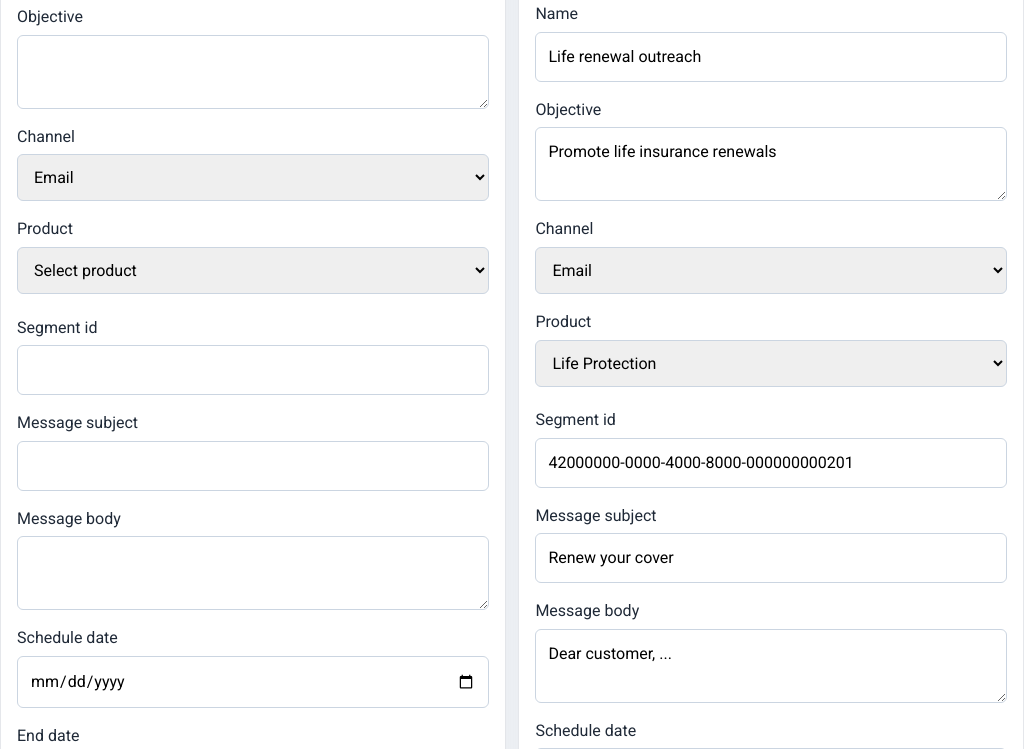
CampaignsPage form validation messages (item 242) › shows campaign form validation messages and blocks create post
This screenshot has width=1024, height=749.
(page scrolled)
Type "bad-segment" into the field named "Campaign segment id" at (253, 370), box left=17, top=345, right=489, bottom=395
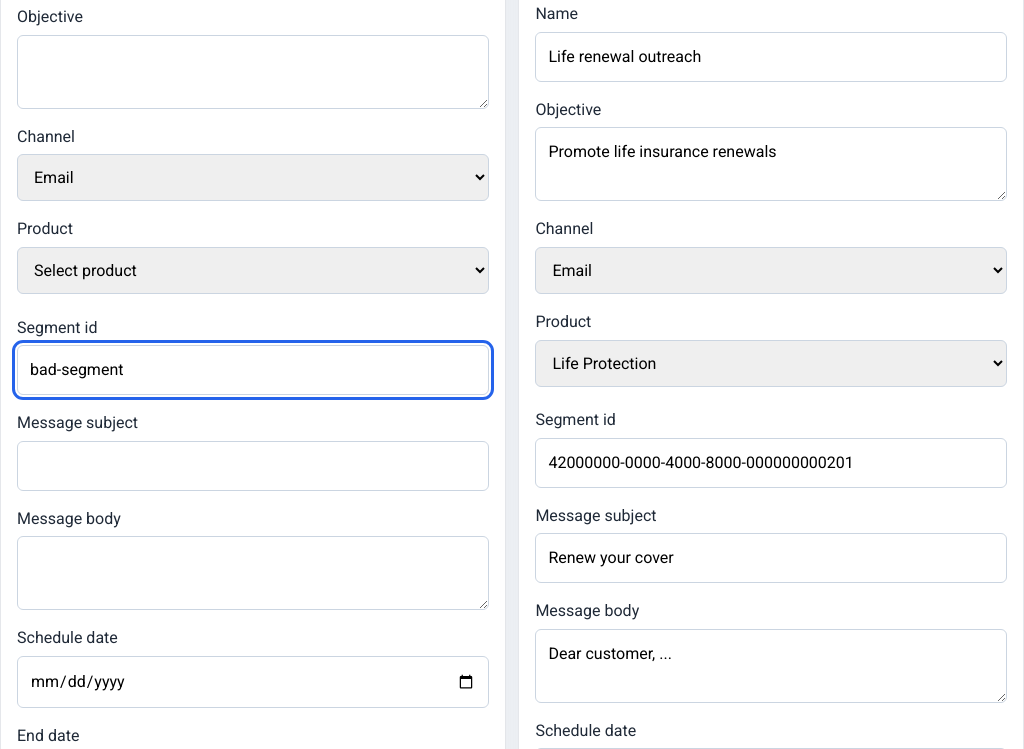
Type "2026-10-15" into the date field named "Campaign schedule date" at (253, 682), box left=17, top=656, right=489, bottom=708
(page scrolled)
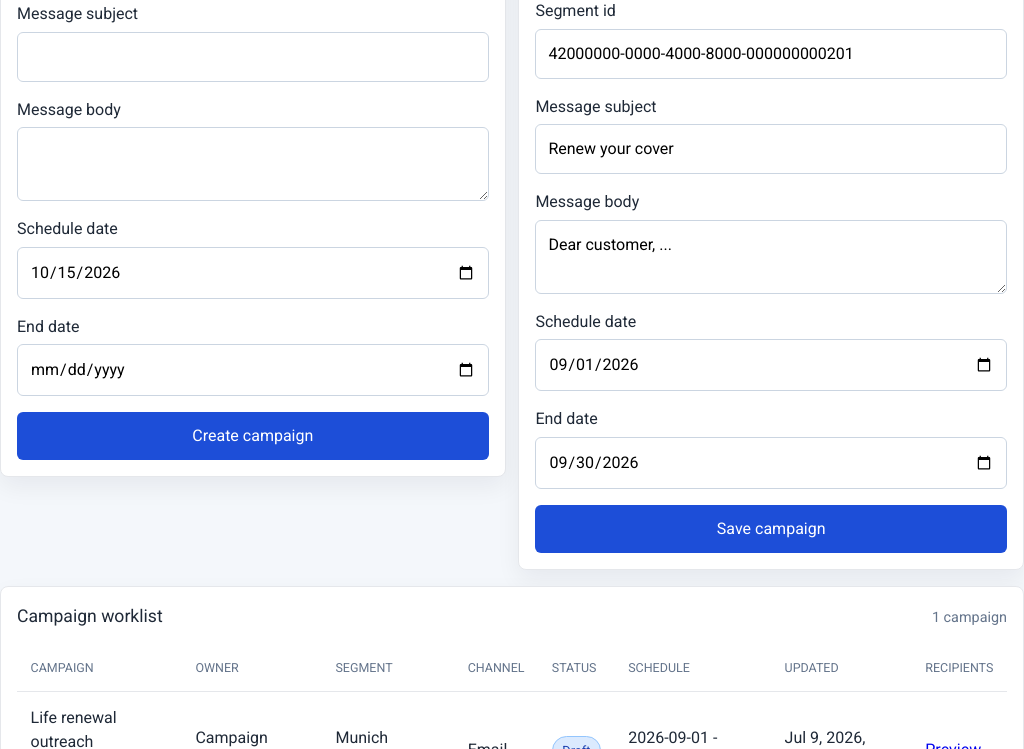
Type "2026-10-01" into the date field named "Campaign end date" at (253, 370), box left=17, top=344, right=489, bottom=396
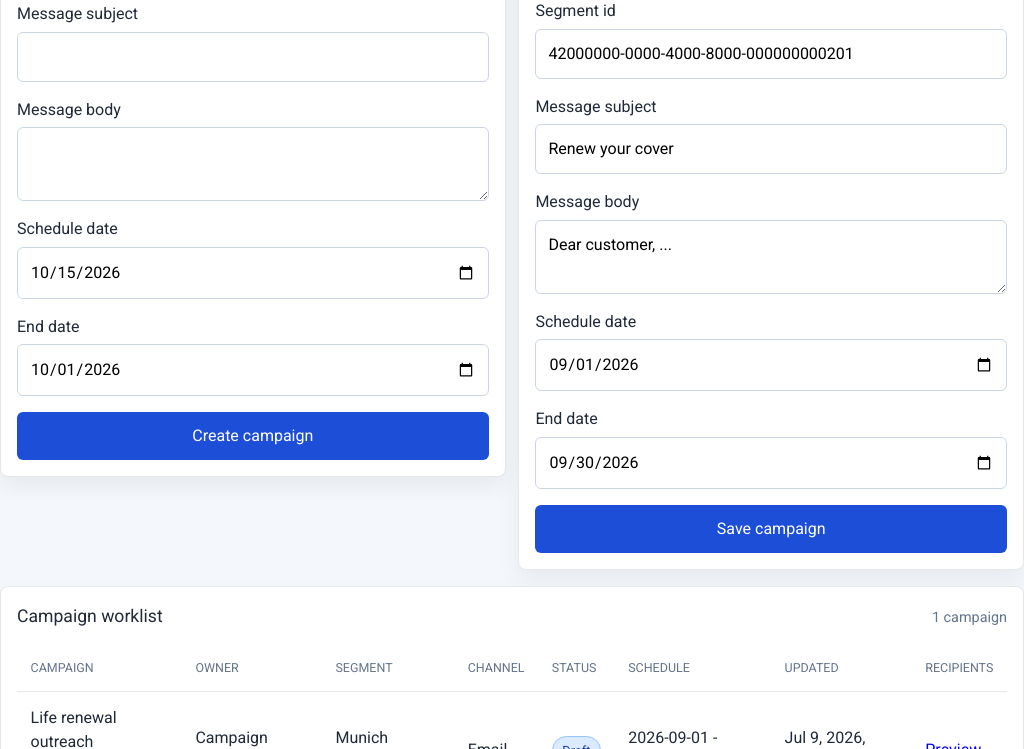
Click the button "Create campaign" at (253, 436), box left=17, top=412, right=489, bottom=460
(page scrolled)
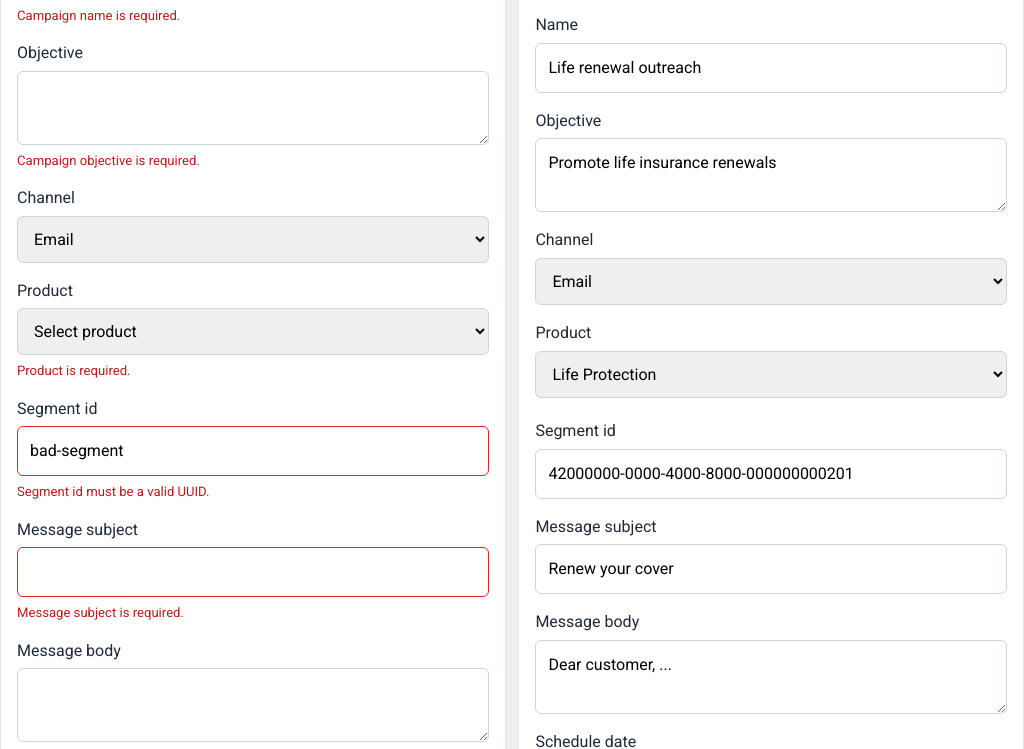
Expected: the text "Campaign name is required." is shown, left=17, top=8, right=180, bottom=23
Expected: the text "Campaign objective is required." is shown, left=17, top=153, right=200, bottom=168
Expected: the text "Message subject is required." is shown, left=17, top=605, right=184, bottom=620
